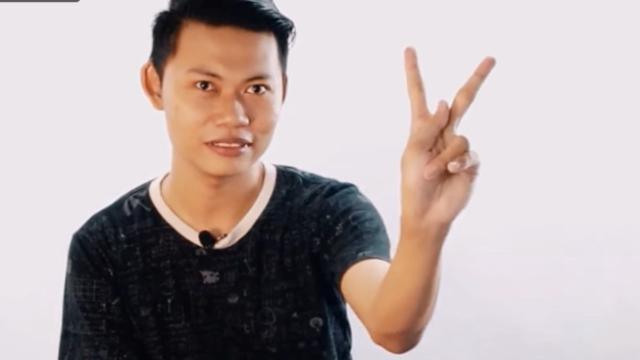K: (399, 47, 501, 231)
